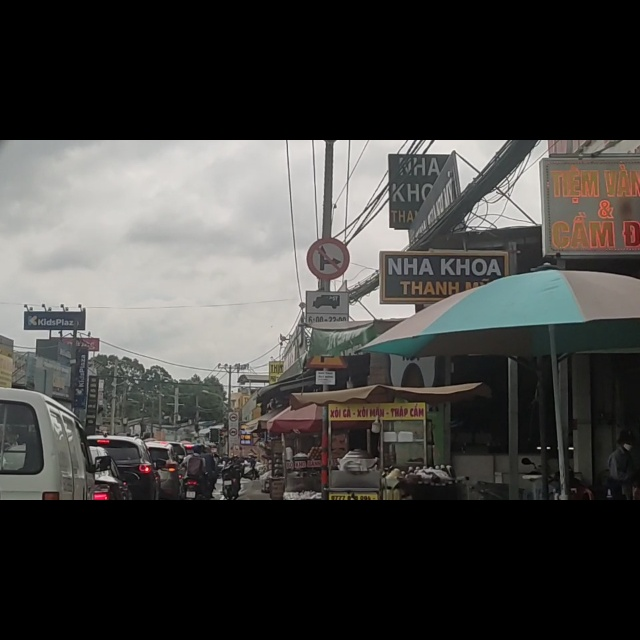bien_nguy_hiem: (307, 177, 349, 247), (306, 270, 347, 332)
